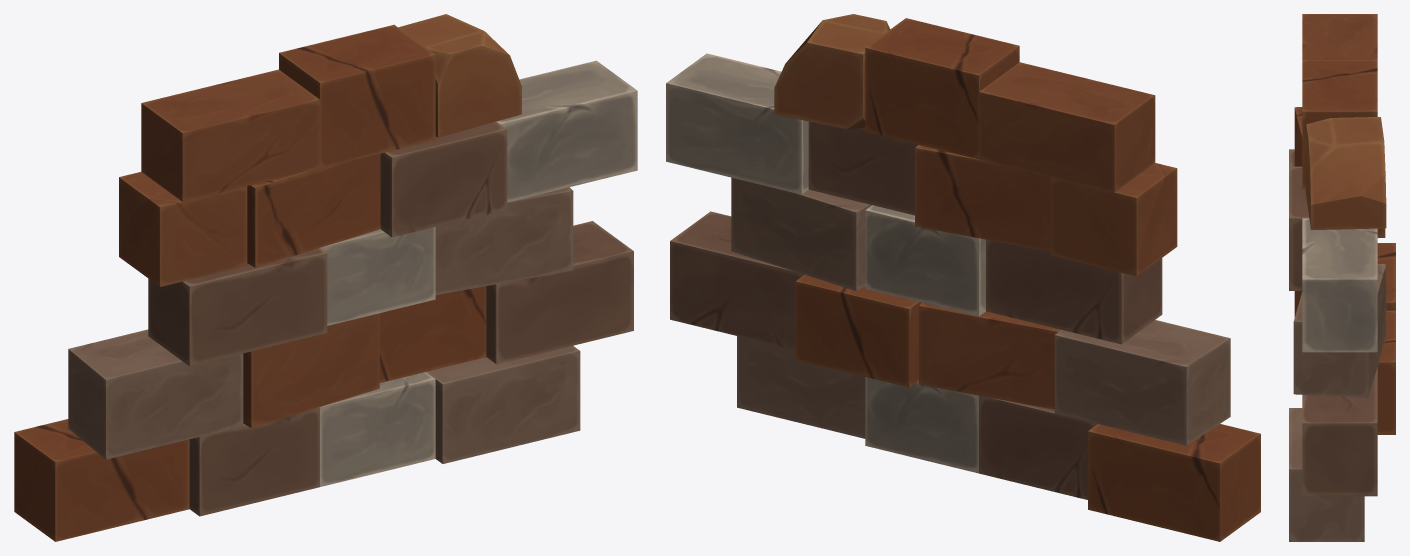
Rendered from Camp1_Brick2.fbx.
3 renders of one model, left to right at view 1: azimuth 30°, elevation 25°; view 2: azimuth 150°, elevation 25°; view 3: azimuth 270°, elevation 25°, orthographic. The views are drawn at different scales.
Parts seen in each view (by area): view 1: polySurface1516; view 2: polySurface1516; view 3: polySurface1516.
Boxes of the visible parts, box(x1,y1,x2,y2) form: polySurface1516: box(14, 14, 637, 541); polySurface1516: box(666, 14, 1260, 541); polySurface1516: box(1289, 14, 1395, 541).
Bounding box in the file's own units: 181 × 122 × 32.05.
Materials: 1 (1 with a texture image).
